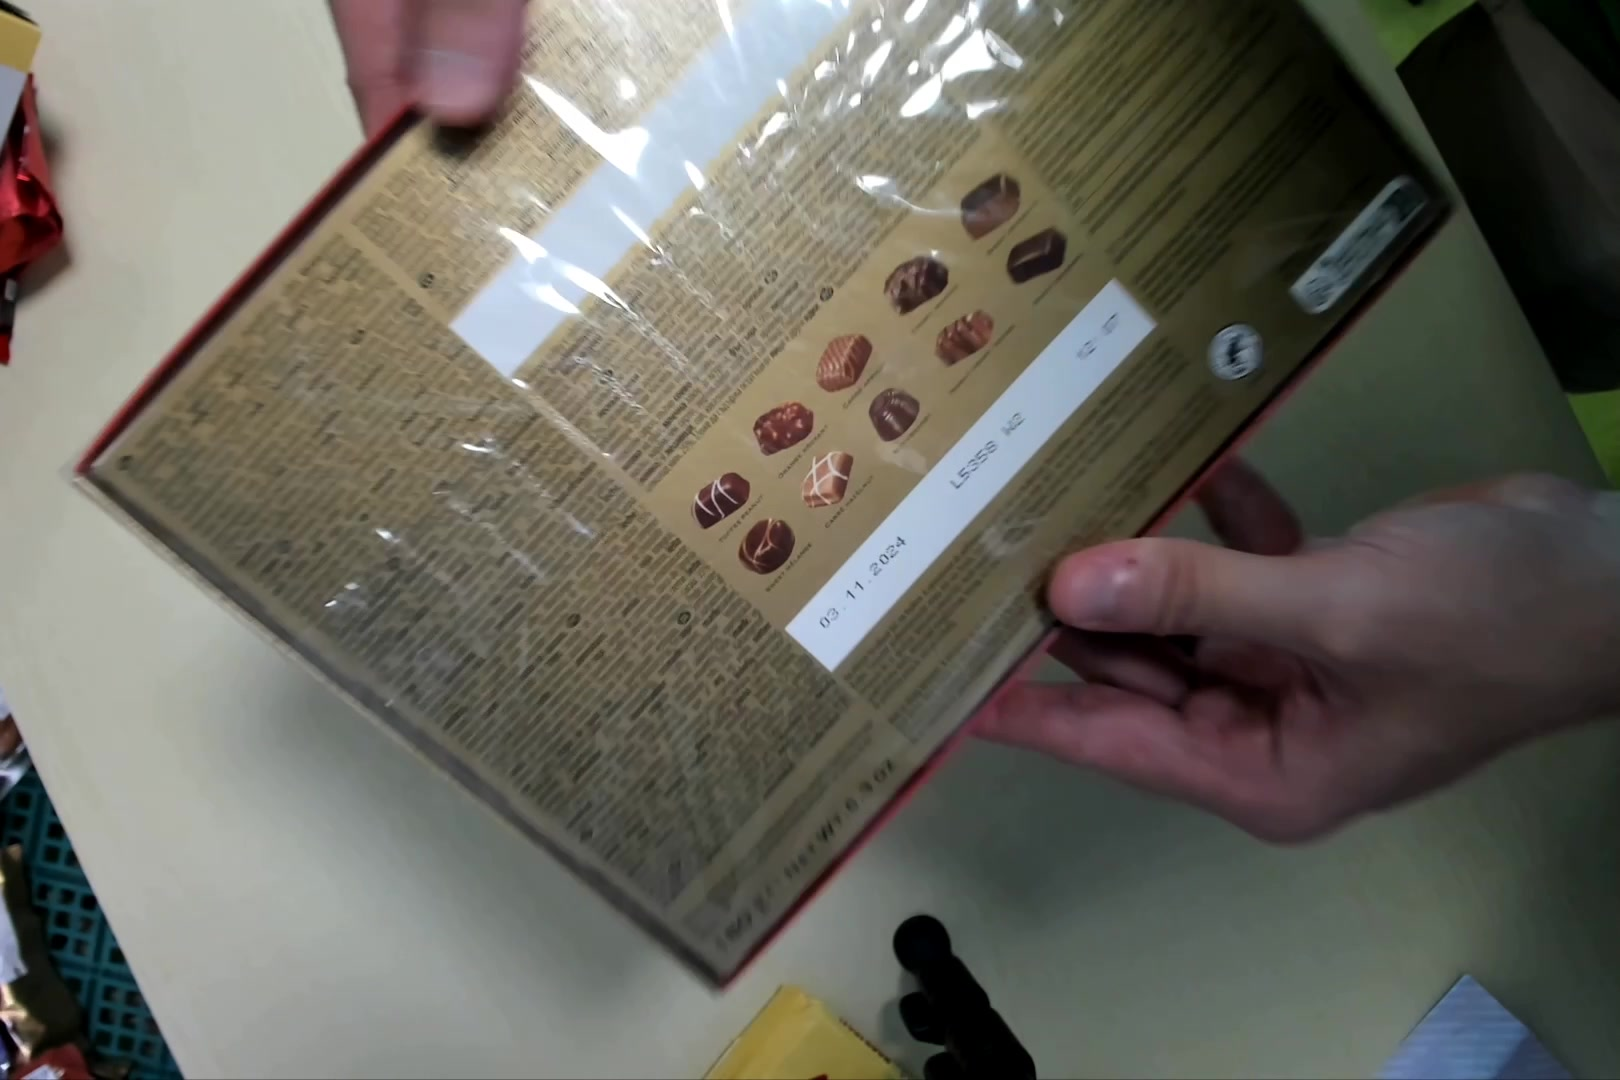SweetsChocolatesOthers_100-199g_NonHalal_NonHealthy: (83, 1, 1463, 981)
